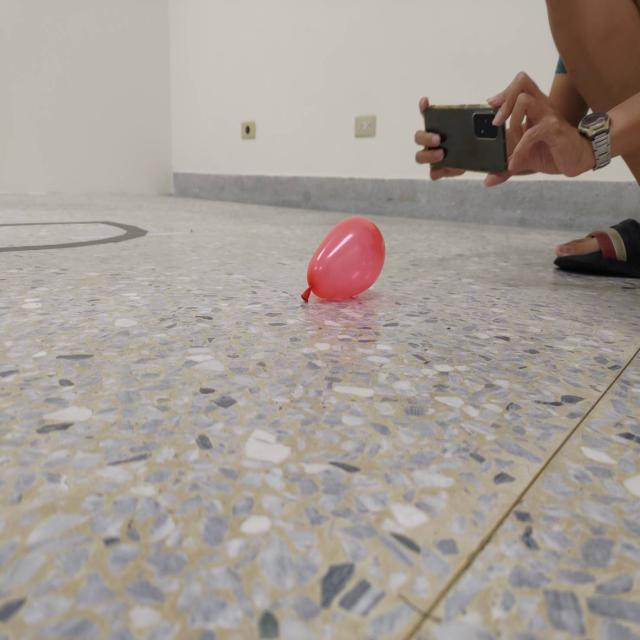red: (300, 215, 384, 304)
